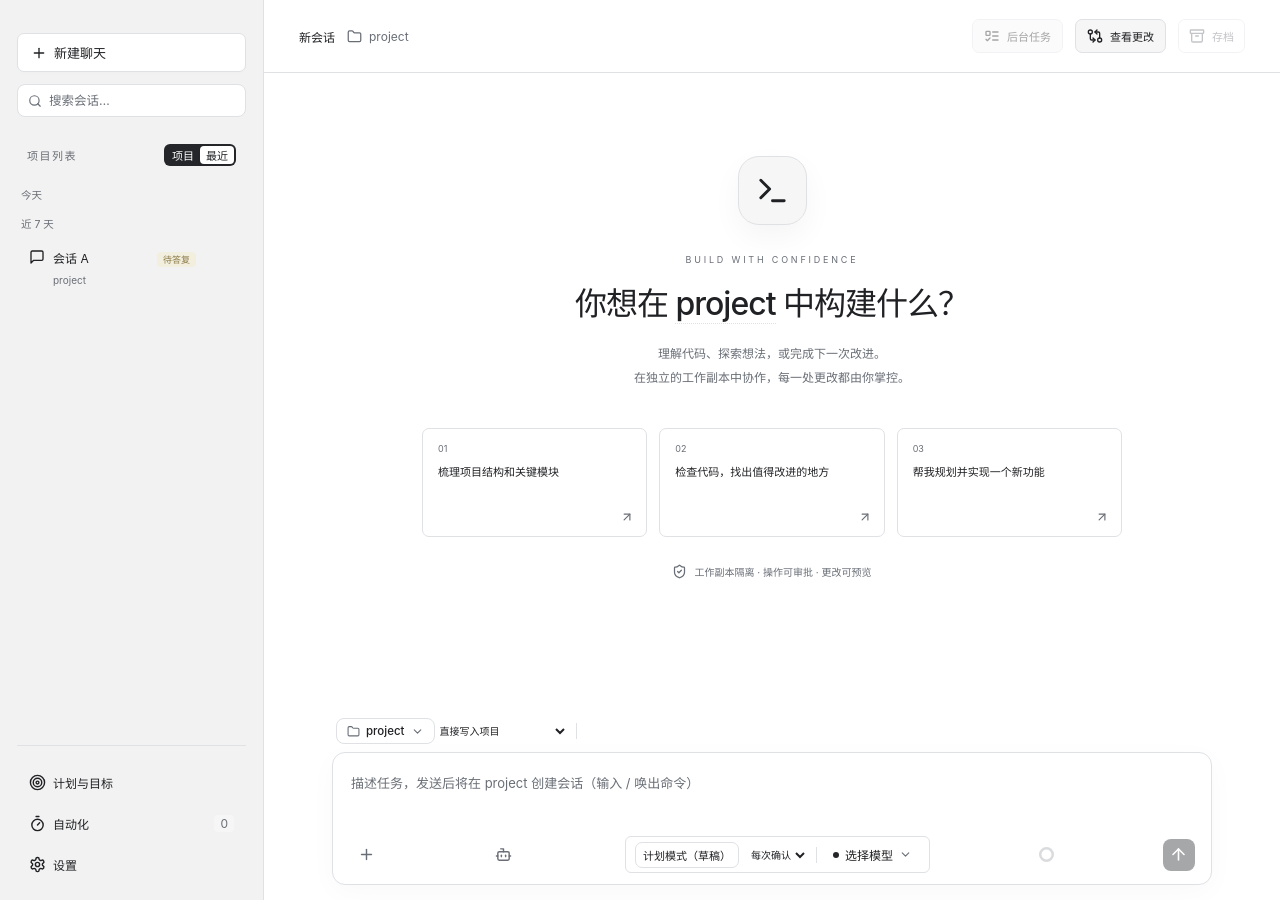
实际样式下提问与答复入口可见
The width and height of the screenshot is (1280, 900).
What coordinates should you click on to do the following:
click the button "会话 A 待答复 project"
I would click on:
 (126, 268)
Its box is [17,238,236,297].
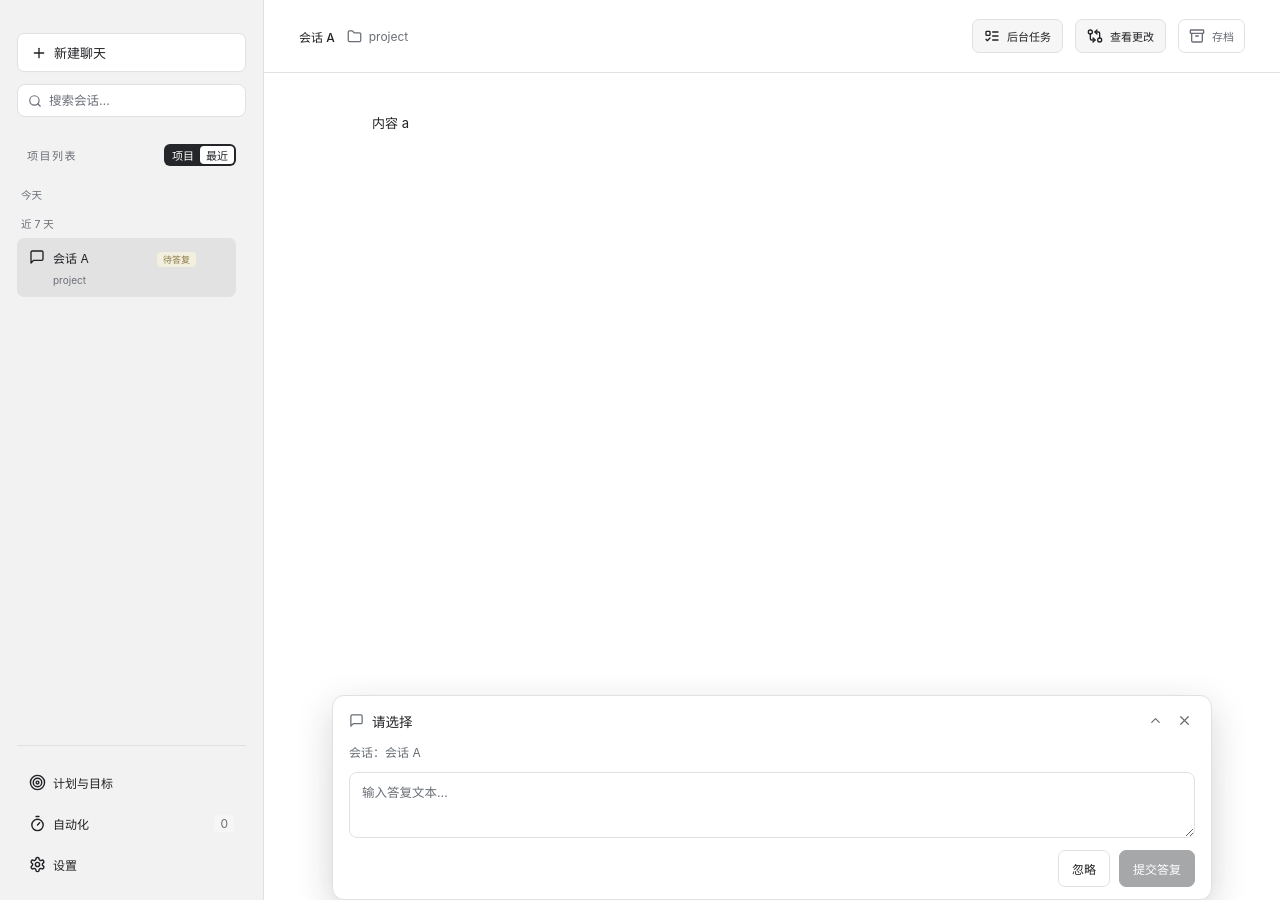
Check: the dialog named "Agent 需要你的输入" is shown, box [332,695,1212,899]
Check: the text box named "自定义答复" is shown, box [349,772,1195,838]
Check: the button "提交答复" is shown, box [1119,850,1195,887]
